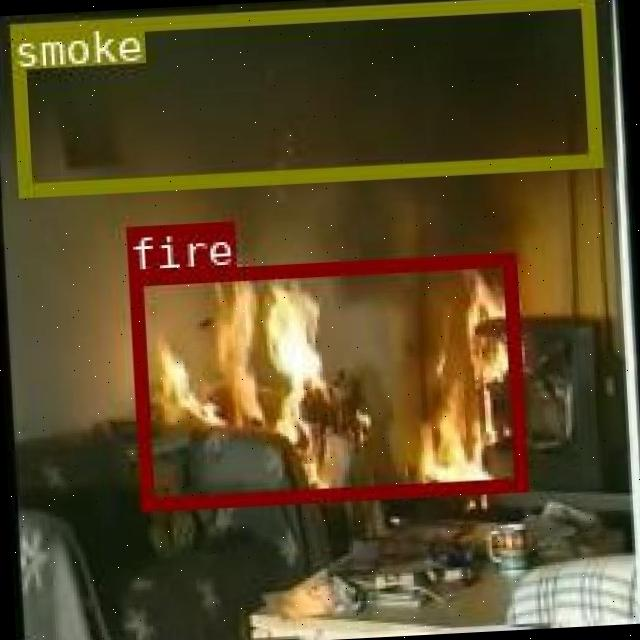fire: (127, 253, 523, 508)
smoke: (9, 0, 599, 192)
